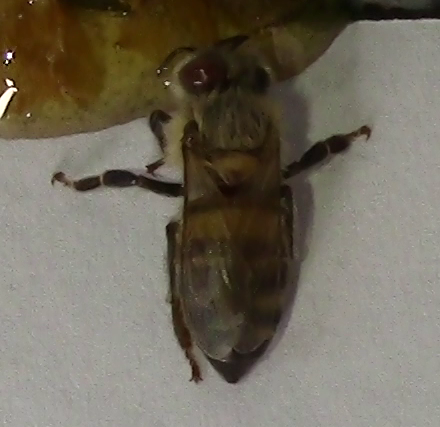Varroa destructor: (178, 52, 232, 94)
